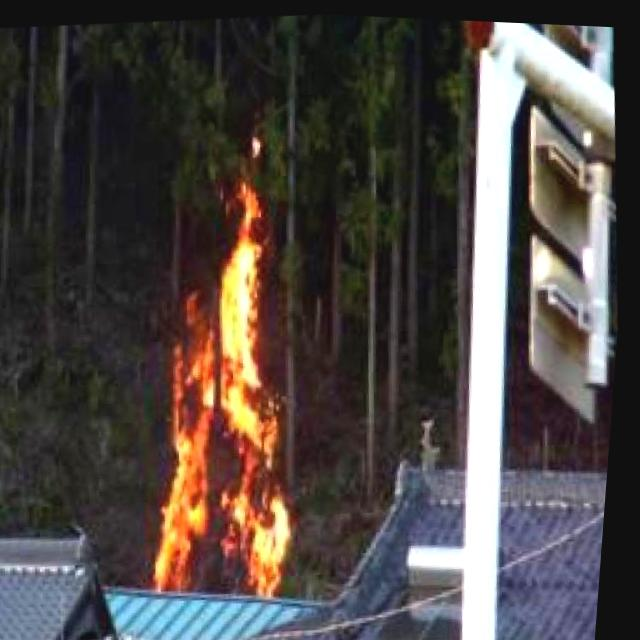Fire: (126, 189, 328, 598)
